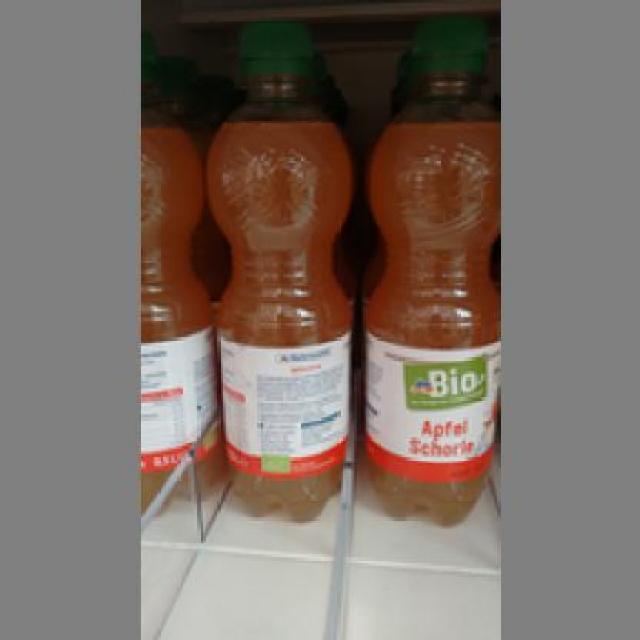Soda: (199, 49, 352, 518), (363, 60, 491, 523), (140, 83, 214, 506)
